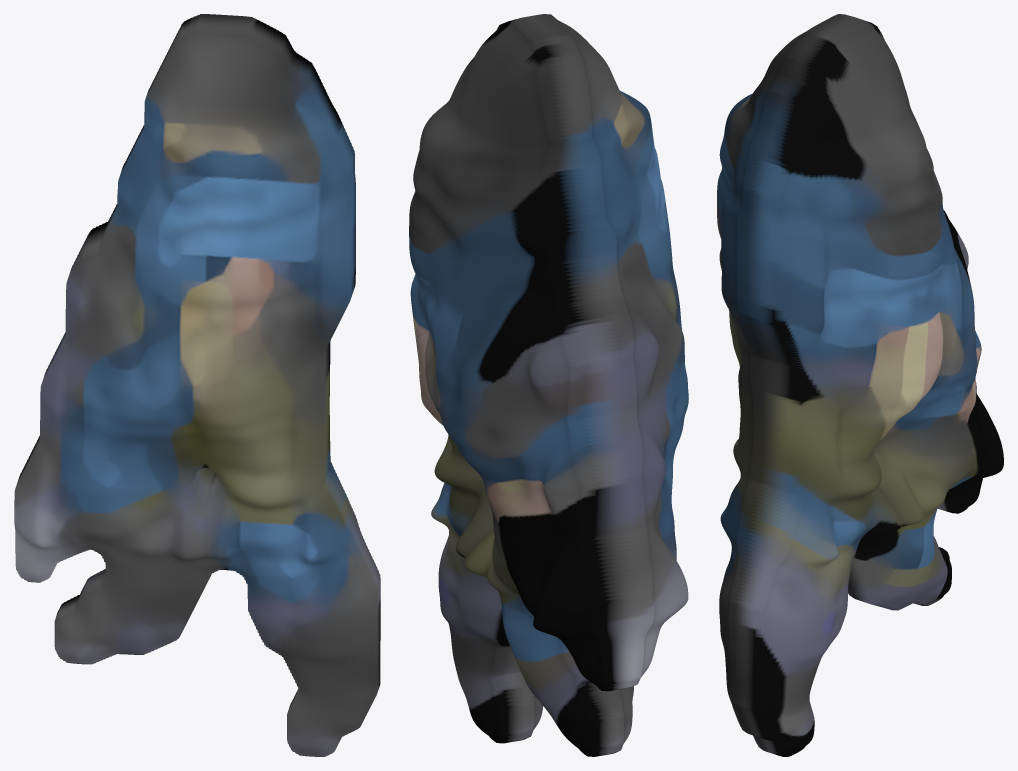
The model's file is guardian_gi.glb.
3 renders of one model, left to right at view 1: azimuth 30°, elevation 25°; view 2: azimuth 150°, elevation 25°; view 3: azimuth 270°, elevation 25°, orthographic. The views are drawn at different scales.
Parts seen in each view (by area): view 1: guardian_gi; view 2: guardian_gi; view 3: guardian_gi.
Boxes of the visible parts, <box> form: guardian_gi: <box>14,14,380,756</box>; guardian_gi: <box>409,14,688,756</box>; guardian_gi: <box>717,14,1003,756</box>.
Size of the model in its own units: 0.917 by 2.23 by 0.8321.
